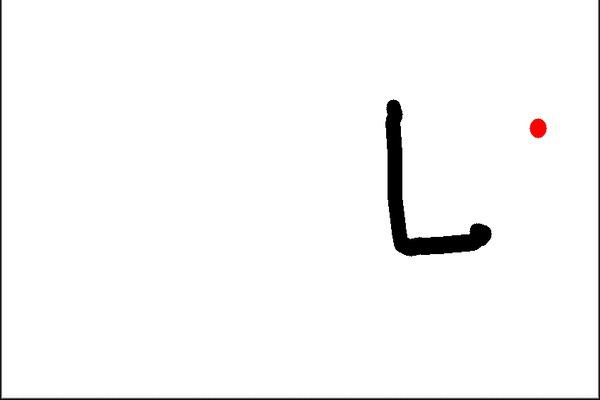L: (373, 91, 500, 265)
